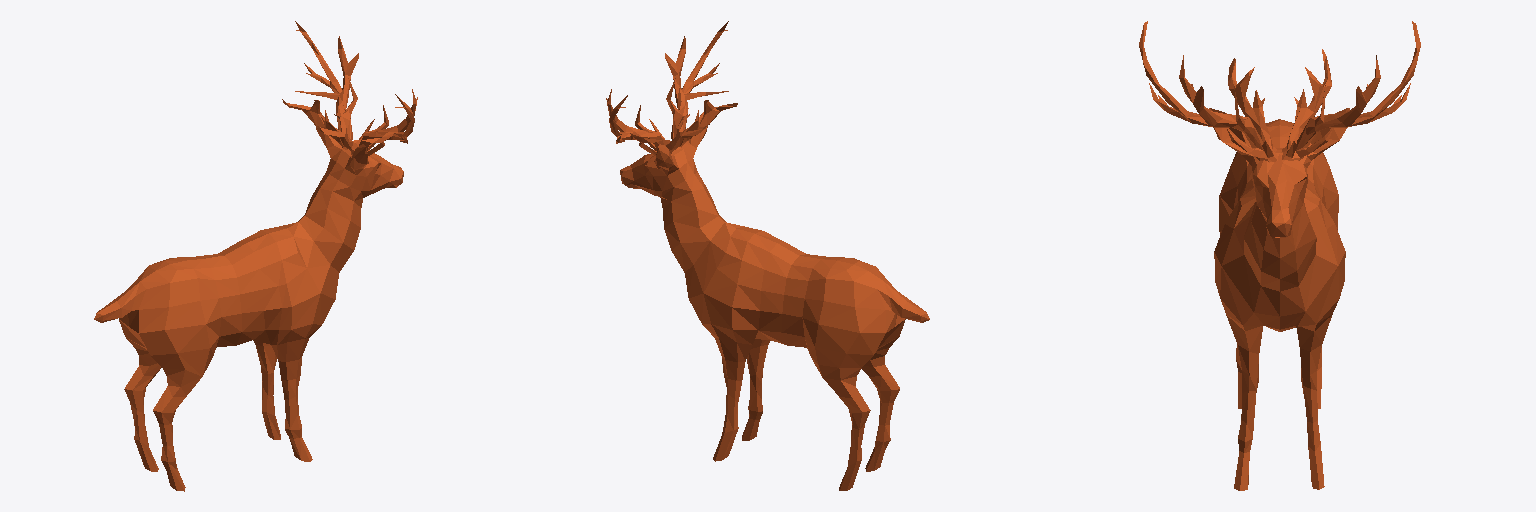
URDF robot description (cup):
<?xml version="1.0"?>
<robot name="cup">
    <material name="brown">
        <color rgba="0.8 0.4 0.2 1"/>
    </material>
    <link name="base_link">
        <visual>
            <geometry>
                <mesh filename="deer.obj" scale="0.0002 0.0002 0.0002"/>
            </geometry>
            <origin rpy="1.57 0 0" xyz="0 0 0" />
            <material name="brown"/>
        </visual>

        <collision>
            <geometry>
                <mesh filename="deer.obj" scale="0.0002 0.0002 0.0002"/>
            </geometry>
            <origin rpy="1.57 0 0" xyz="0 0 0" />
        </collision>
        <inertial>
            <mass value="1"/>
            <inertia ixx="0.000000000000001" ixy="0.0" ixz="0.0" iyy="0.000000000000001" iyz="0.0" izz="0.000000000000001"/>
        </inertial>
    </link>
</robot>

--- Facts derived from the render (not from the file) ---
The picture shows the robot from 3 angles, left to right: view 1: azimuth 30°, elevation 25°; view 2: azimuth 150°, elevation 25°; view 3: azimuth 270°, elevation 25°; orthographic projection.
Robot: cup — 1 links, 0 joints (none); root link base_link; default pose: every joint at zero.
Visible links, largest first — view 1: base_link; view 2: base_link; view 3: base_link.
Boxes of the visible links, x1,y1,x2,y2 form: base_link: (94,21,417,491); base_link: (606,21,929,490); base_link: (1139,21,1420,490).
Size in the robot's own frame: 0.2461 by 0.1476 by 0.2894 metres.
Meshes: 1 distinct files referenced, 1 mesh visuals loaded (1 OBJ).